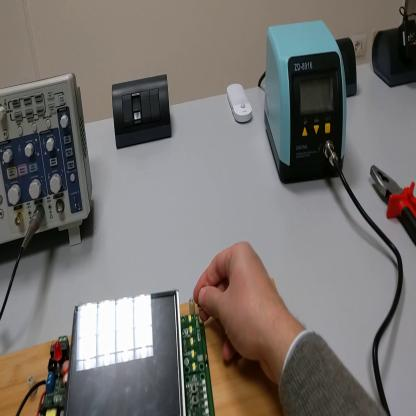hand: (193, 240, 284, 373)
low voltage board: (16, 288, 216, 416)
oscilloscope: (2, 76, 95, 250)
pliers: (370, 166, 416, 246)
socket: (372, 28, 415, 88), (336, 40, 358, 99)
welder station: (266, 23, 348, 186)
working area: (2, 275, 292, 413)
